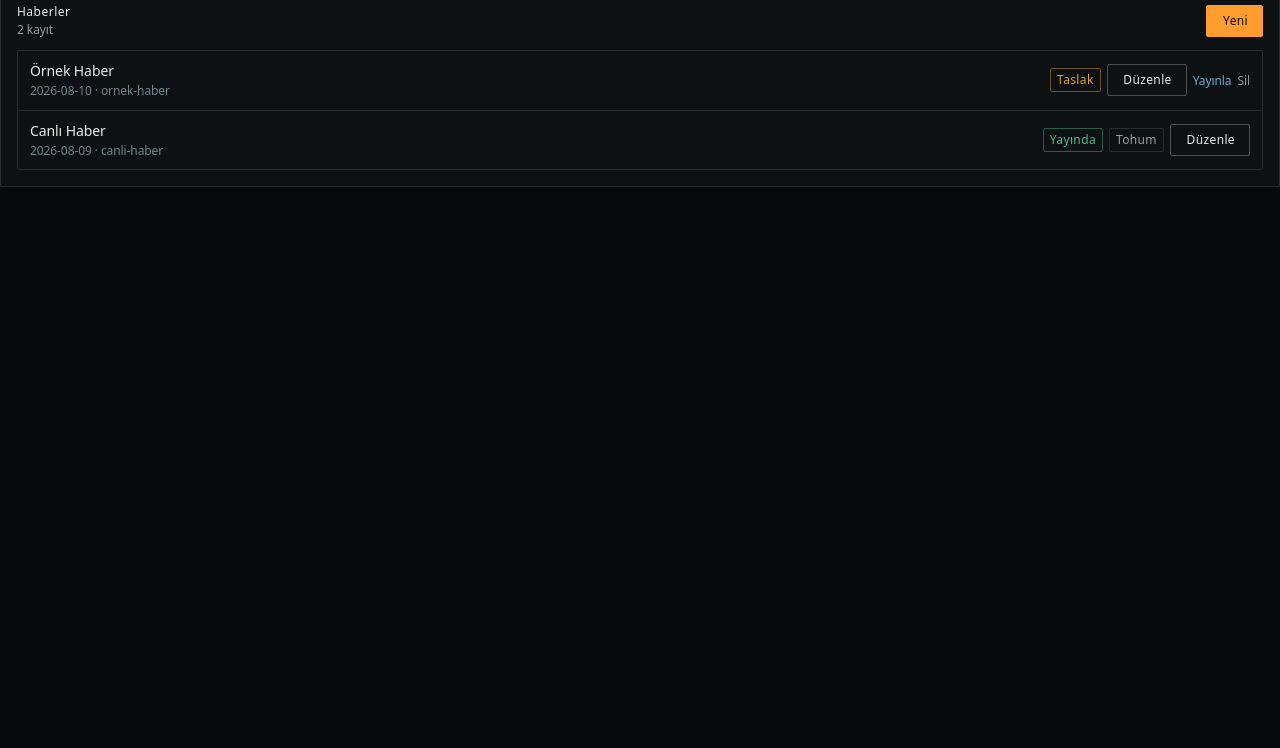
it: ContentControl importer akışı › importer yeni içerik eklemede görünür
The width and height of the screenshot is (1280, 748).
Click the button "Yeni": (1235, 21) [1206,5,1263,37]
(page scrolled)
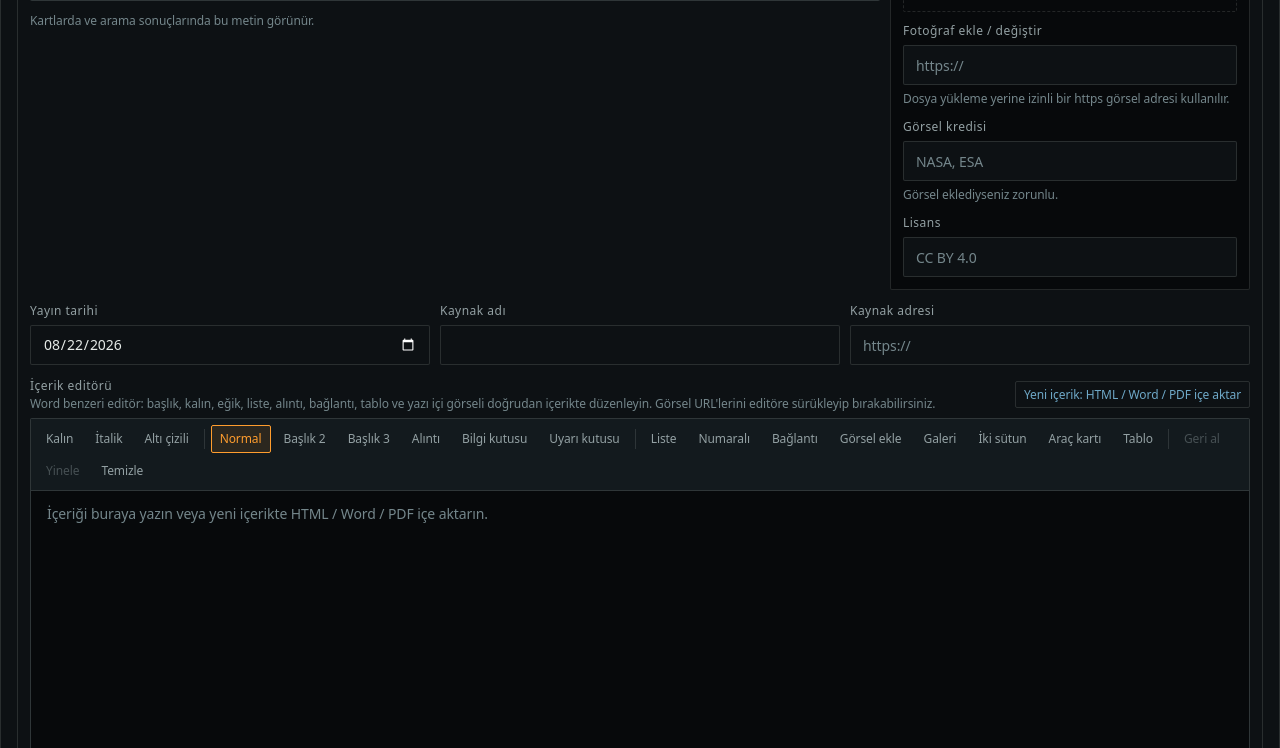
Check: the file field "Yeni içerik: HTML / Word / PDF içe aktar" is shown, box [1015,381,1250,408]
